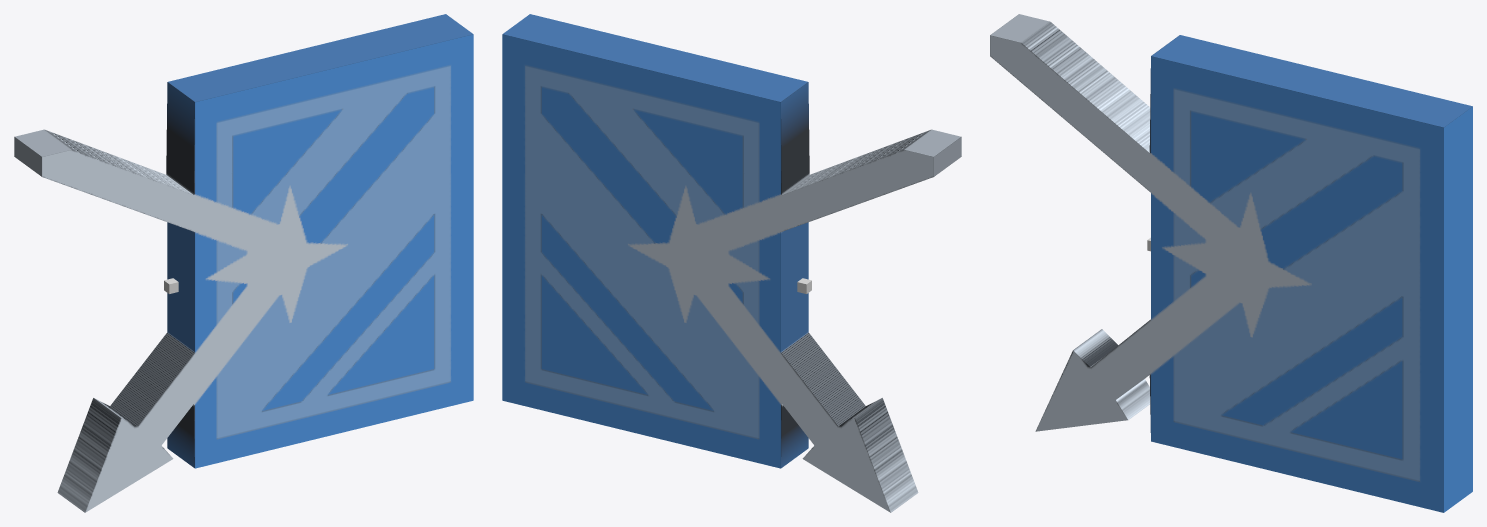
File: powerup-reflect-model.fbx
3 renders of one model, left to right at view 1: azimuth 30°, elevation 25°; view 2: azimuth 150°, elevation 25°; view 3: azimuth 330°, elevation 25°, orthographic. The views are drawn at different scales.
Visible parts, largest first — view 1: Object.1; view 2: Object.1; view 3: Object.1.
Part boxes in pixels (bbox=[...]): Object.1: bbox=[14, 14, 473, 512]; Object.1: bbox=[502, 14, 961, 512]; Object.1: bbox=[990, 14, 1472, 512].
Bounding box in the file's own units: 9169 × 7798 × 1016.
